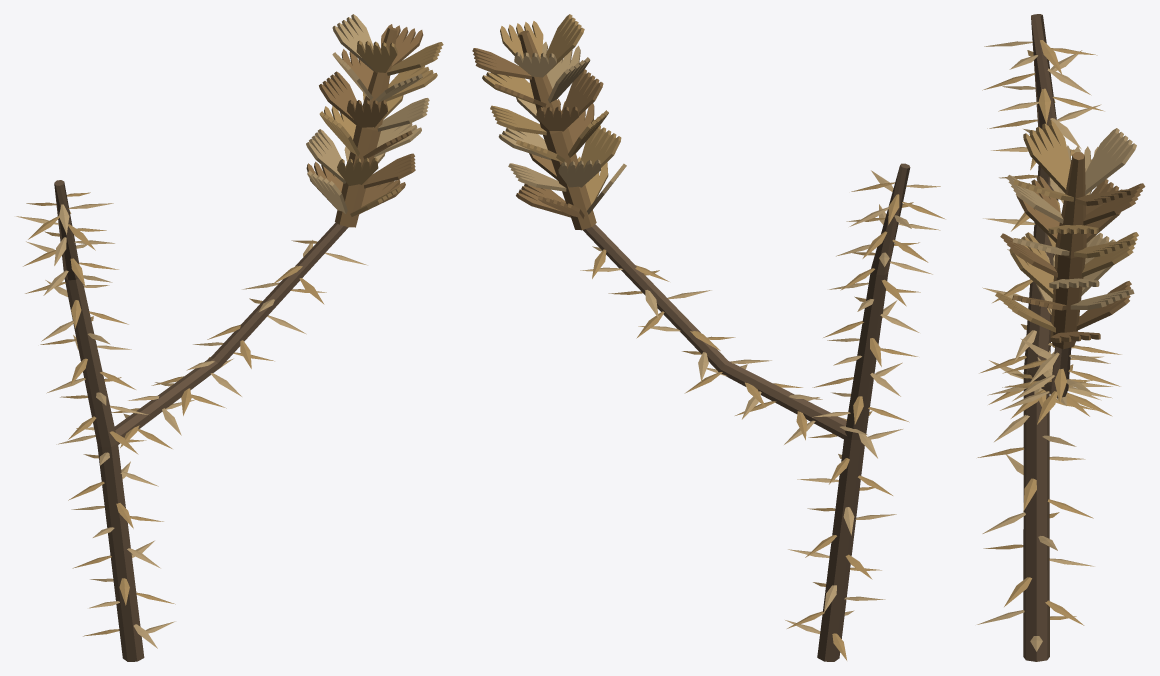
Rendered from voltzia.glb.
3 renders of one model, left to right at view 1: azimuth 30°, elevation 25°; view 2: azimuth 150°, elevation 25°; view 3: azimuth 270°, elevation 25°, orthographic. The views are drawn at different scales.
Parts seen in each view (by area): view 1: voltzia-heterophylla-fruiting-branch; view 2: voltzia-heterophylla-fruiting-branch; view 3: voltzia-heterophylla-fruiting-branch.
Boxes of the visible parts, x1,y1,x2,y2 form: voltzia-heterophylla-fruiting-branch: (16, 14, 443, 661); voltzia-heterophylla-fruiting-branch: (472, 14, 945, 661); voltzia-heterophylla-fruiting-branch: (977, 14, 1145, 661).
Bounding box in the file's own units: 0.1316 × 0.164 × 0.0374.
